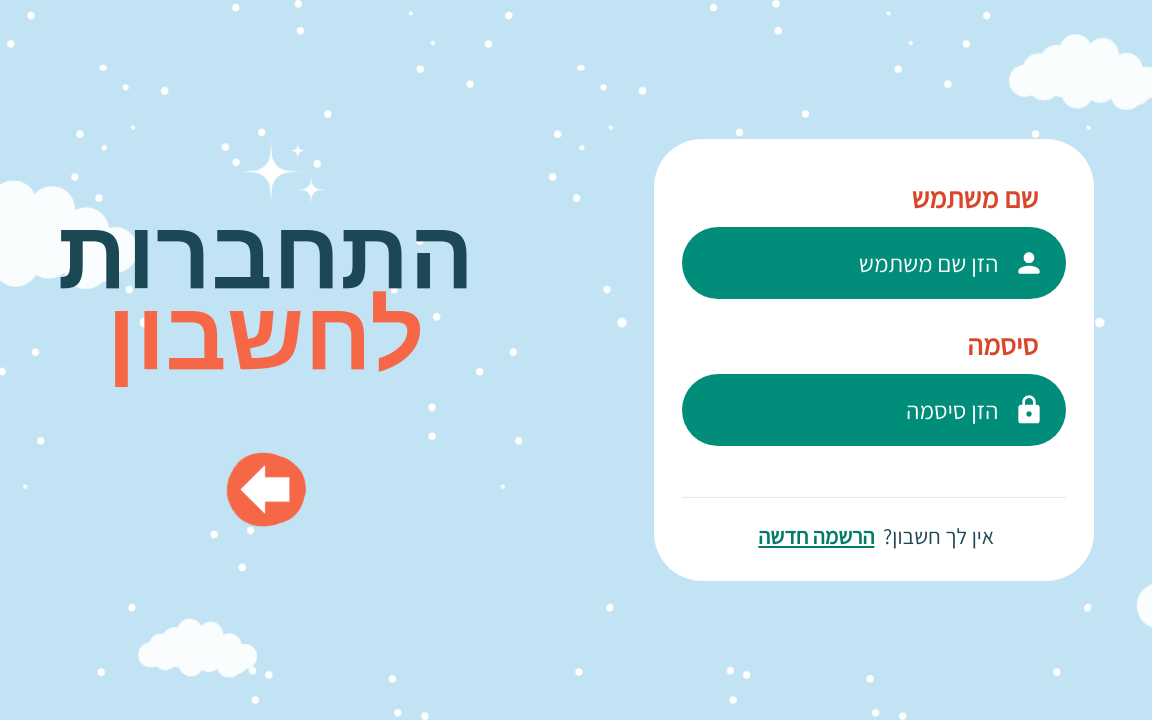
Scenario: registration shows success inside the popup until continuing to login
Click the button "הרשמה חדשה" at point(816, 536), box [754, 516, 878, 557]
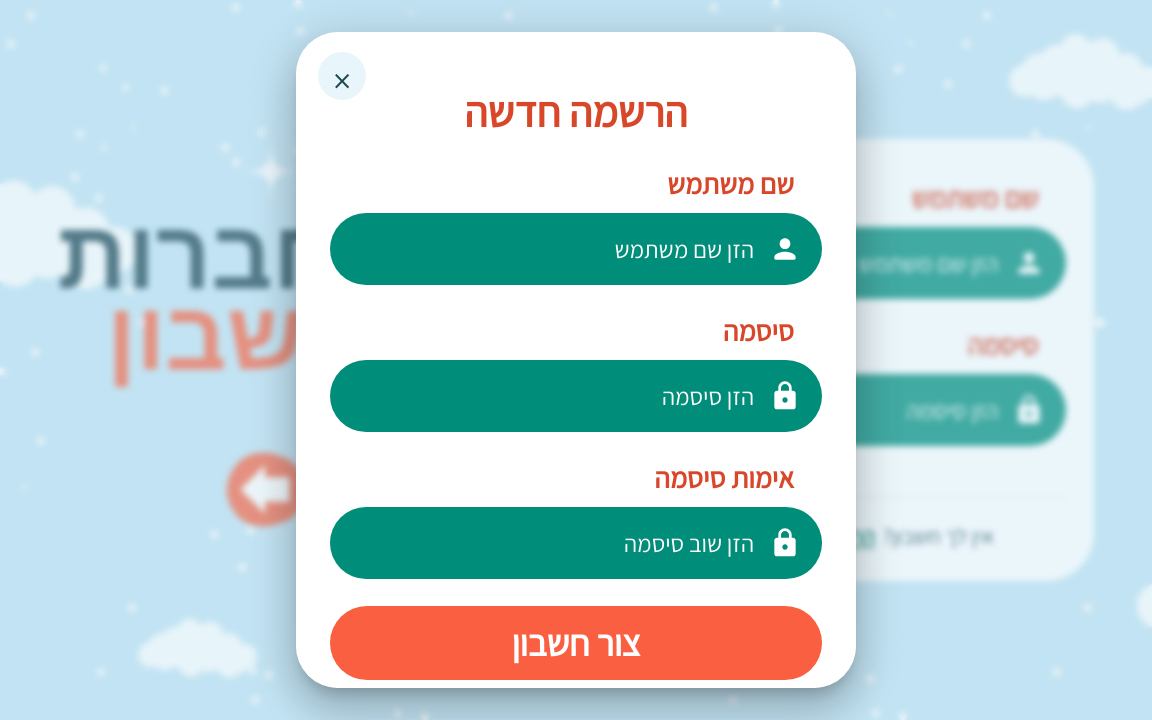
Type "Maya" into the field labelled "שם משתמש" at point(576, 249), box [330, 213, 822, 285]
Type "secret123" into the password field labelled "סיסמה" at point(576, 396), box [330, 360, 822, 432]
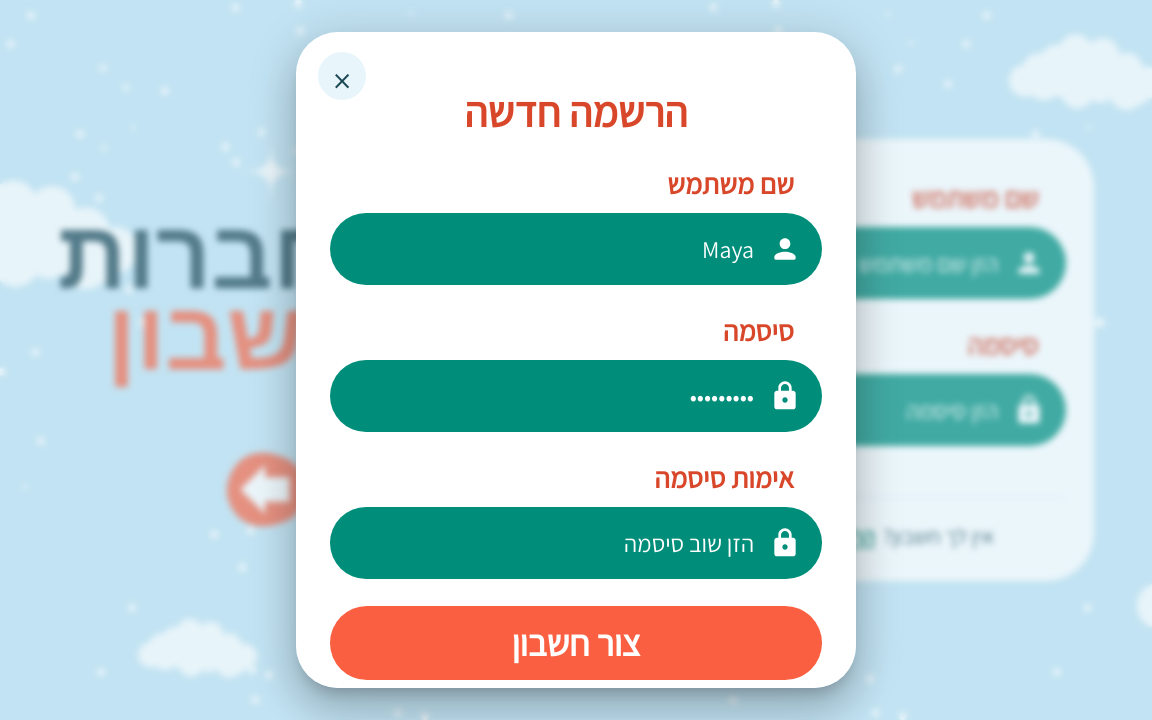
Type "secret123" into the password field labelled "אימות סיסמה" at point(576, 543), box [330, 507, 822, 579]
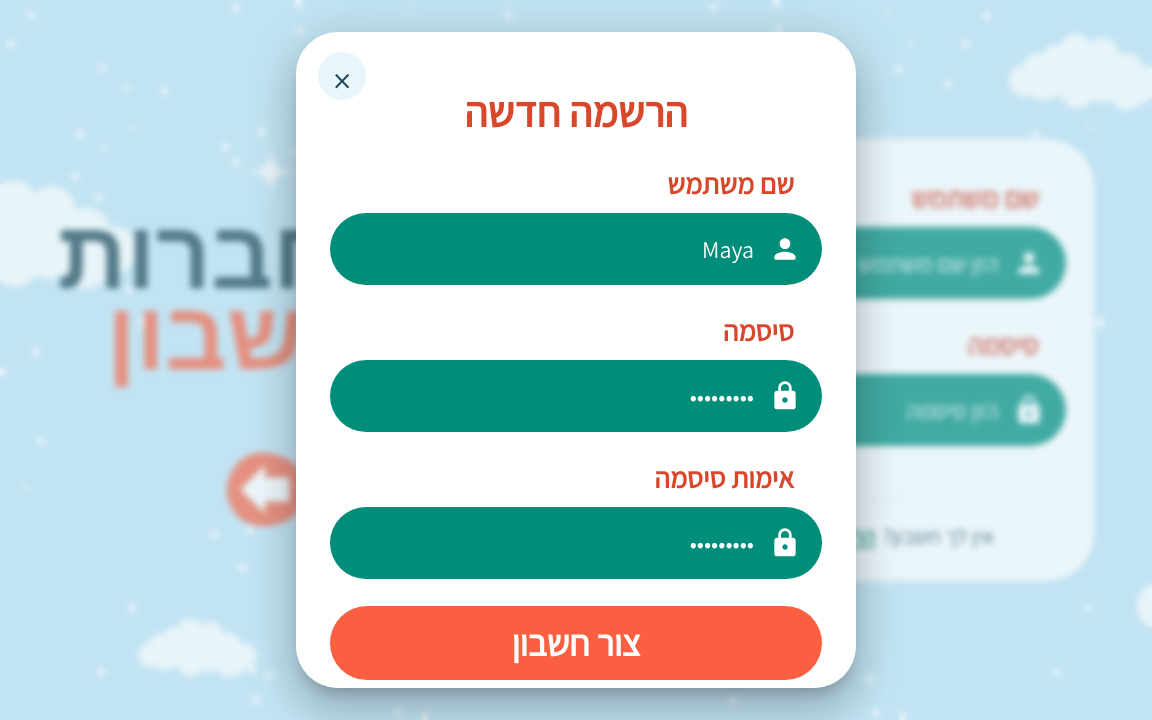
Click the button "צור חשבון" at point(576, 643), box [330, 606, 822, 680]
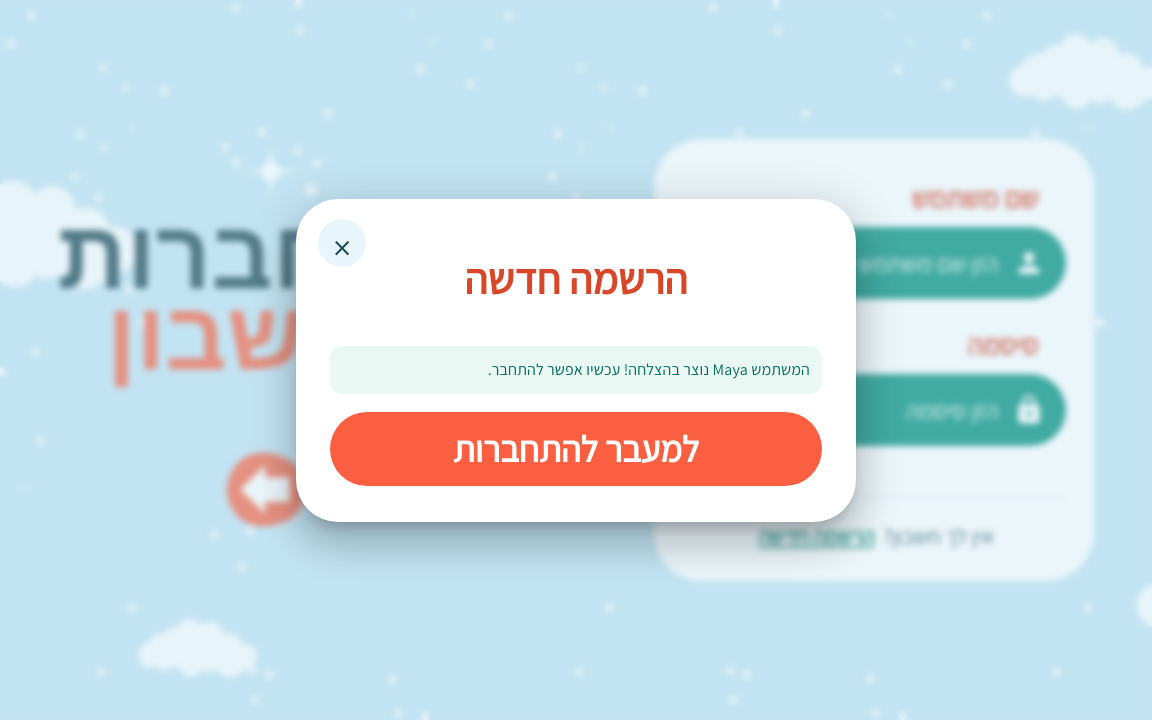
Result: the message shows "נוצר בהצלחה" at [488, 358, 810, 380]
Result: the button "צור חשבון" is gone
Click the button "למעבר להתחברות" at point(576, 448), box [330, 412, 822, 486]
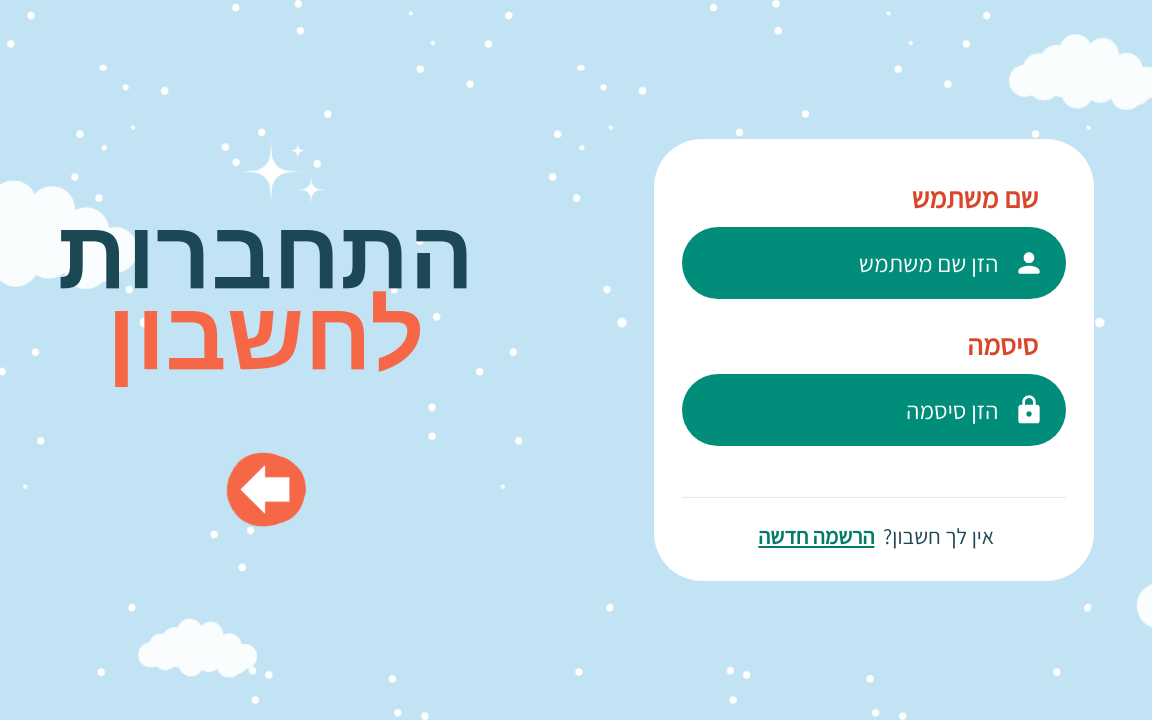
Expected: the heading "התחברות לחשבון" is shown, [58, 183, 474, 408]
Result: the message "המשתמש Maya נוצר בהצלחה! עכשיו אפשר להתחבר." is gone
Click the button "הרשמה חדשה" at point(816, 536), box [754, 516, 878, 557]
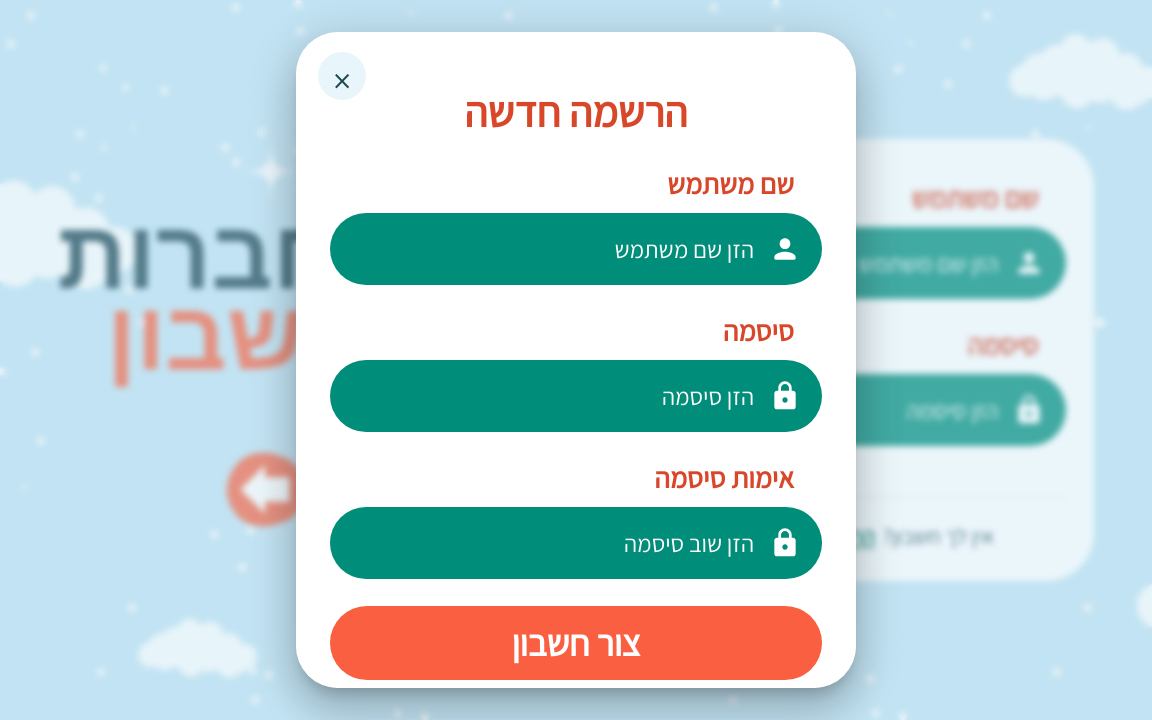
Result: the button "צור חשבון" is shown at [330, 606, 822, 680]
